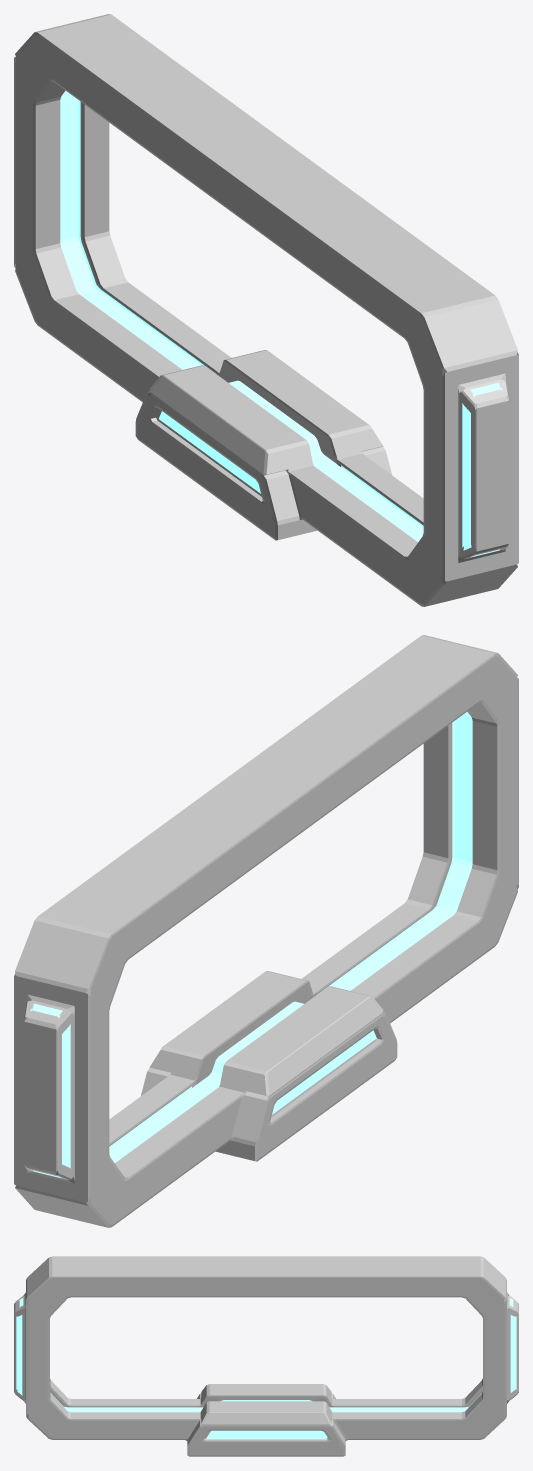
File: Barrière.fbx
3 views of the same model, one above another, from view 1: azimuth 30°, elevation 25°; view 2: azimuth 150°, elevation 25°; view 3: azimuth 270°, elevation 25° (orthographic). The views are drawn at different scales.
Visible parts, largest first — view 1: BarrièreBevel; view 2: BarrièreBevel; view 3: BarrièreBevel.
Boxes of the visible parts, x1,y1,x2,y2 form: BarrièreBevel: (14, 14, 518, 606); BarrièreBevel: (14, 635, 518, 1227); BarrièreBevel: (14, 1256, 518, 1456).
Size of the model in its own units: 64.34 by 160 by 420.
